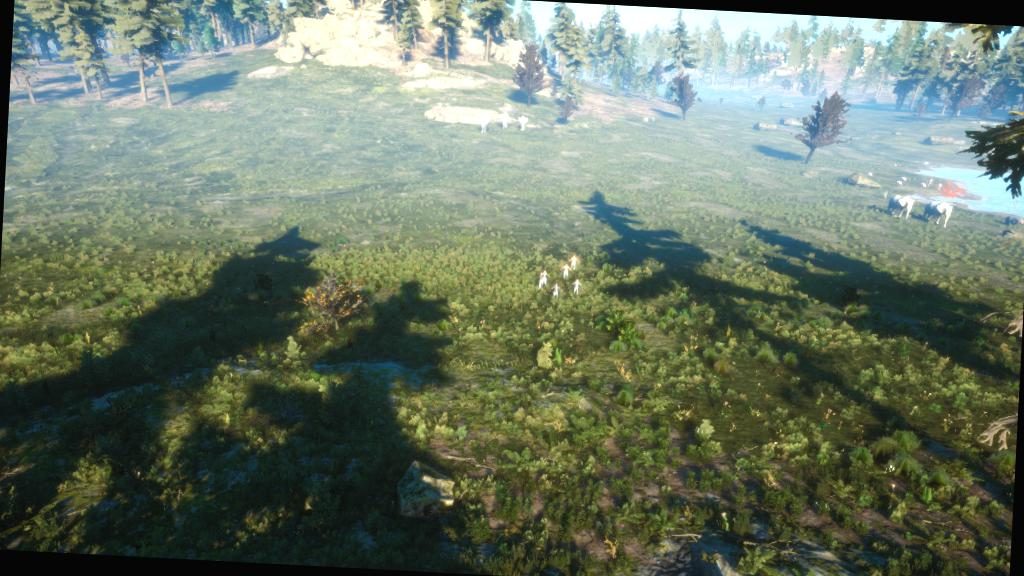elephant: (920, 190, 966, 238), (879, 182, 919, 226), (472, 111, 498, 142), (512, 109, 536, 140), (498, 110, 515, 137)
human: (526, 245, 597, 312)
